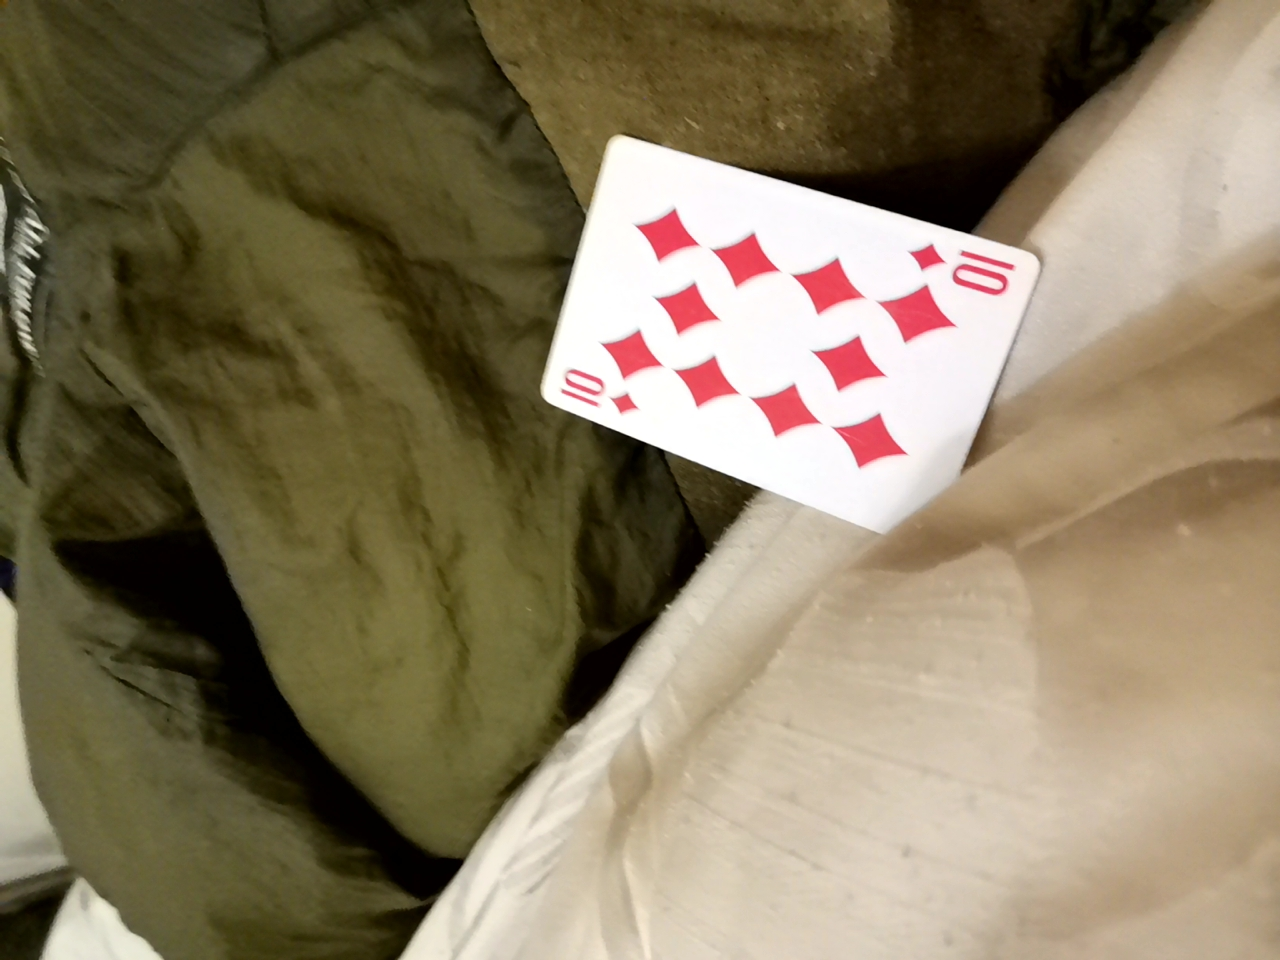fk 10: (433, 166, 975, 573)
